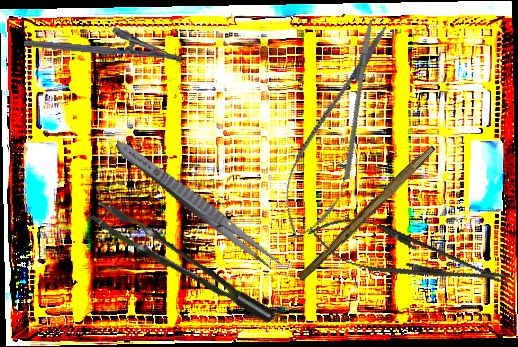Dressing Forceps: (110, 135, 287, 276)
Micro Scissor: (267, 11, 407, 249)
Needle Holder: (302, 206, 515, 306), (23, 17, 188, 64)
Scalpel Handle: (296, 140, 437, 285)
Tissue Forceps: (87, 183, 277, 347)
